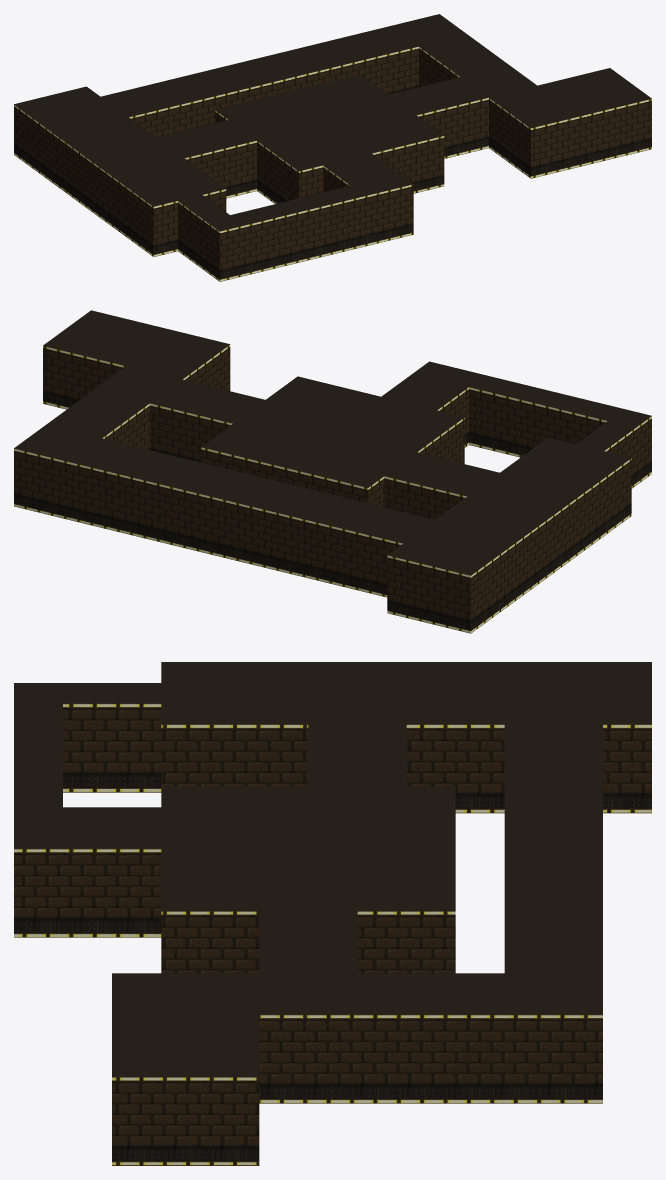
Rendered from DoomCloneTestLevel.glb.
The picture shows the model from 3 angles, top to bottom: view 1: azimuth 30°, elevation 25°; view 2: azimuth 150°, elevation 25°; view 3: azimuth 270°, elevation 25°; orthographic projection. The views are drawn at different scales.
Visible parts, largest first — view 1: Plane.001; view 2: Plane.001; view 3: Plane.001.
Part boxes in pixels (x1,y1,x2,y2): Plane.001: (14,14,651,281); Plane.001: (14,310,651,633); Plane.001: (14,662,651,1165).
Bounding box in the file's own units: 20 × 2 × 13.
Materials: 2 (2 with a texture image).
